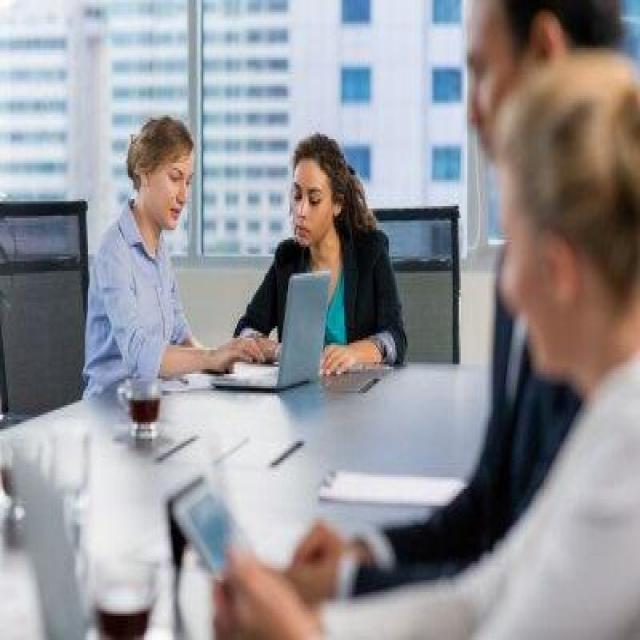person: (411, 0, 629, 592), (453, 43, 638, 542), (58, 76, 227, 384), (242, 96, 400, 410)
